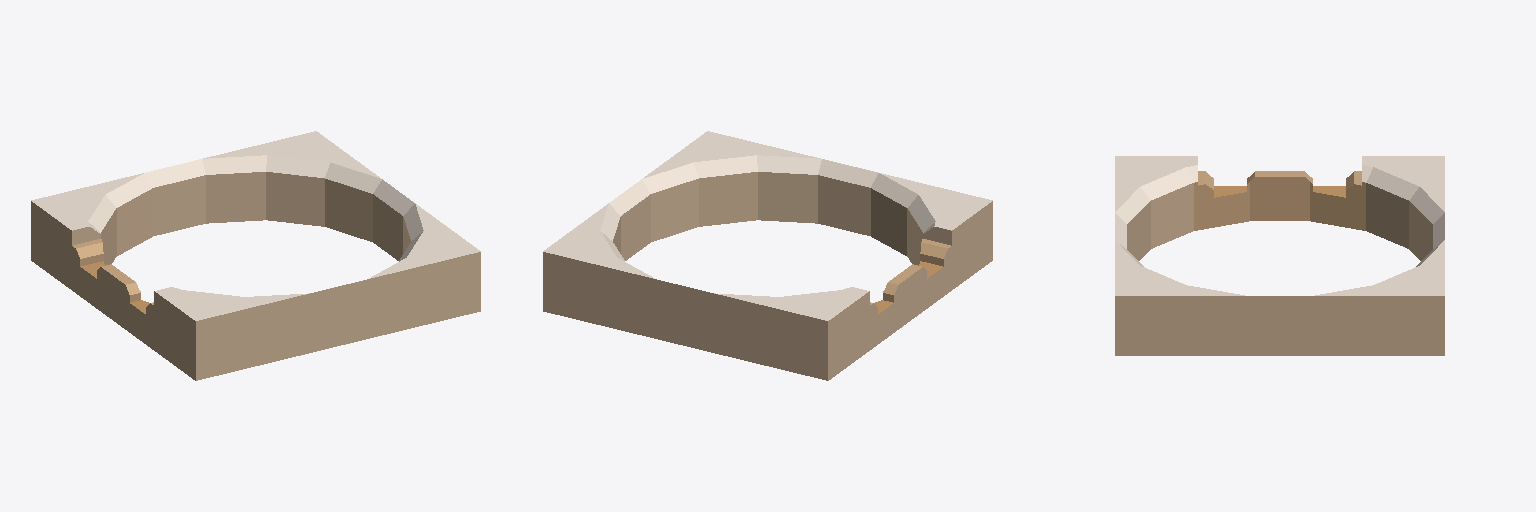
The model's file is Puzzle_Track_Rotating_Housing_End.obj.
3 renders of one model, left to right at view 1: azimuth 30°, elevation 25°; view 2: azimuth 150°, elevation 25°; view 3: azimuth 270°, elevation 25°, orthographic.
Visible parts, largest first — view 1: object1; view 2: object1; view 3: object1.
Part boxes in pixels (bbox=[...]): object1: bbox=[31, 131, 480, 380]; object1: bbox=[543, 131, 992, 380]; object1: bbox=[1115, 156, 1444, 355].
Size of the model in its own units: 1 by 0.2 by 1.